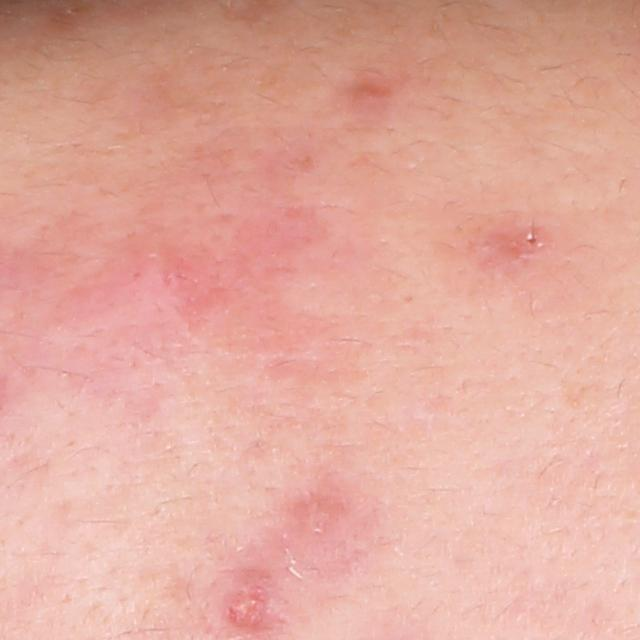papule: (225, 585, 273, 628), (352, 78, 398, 111)
